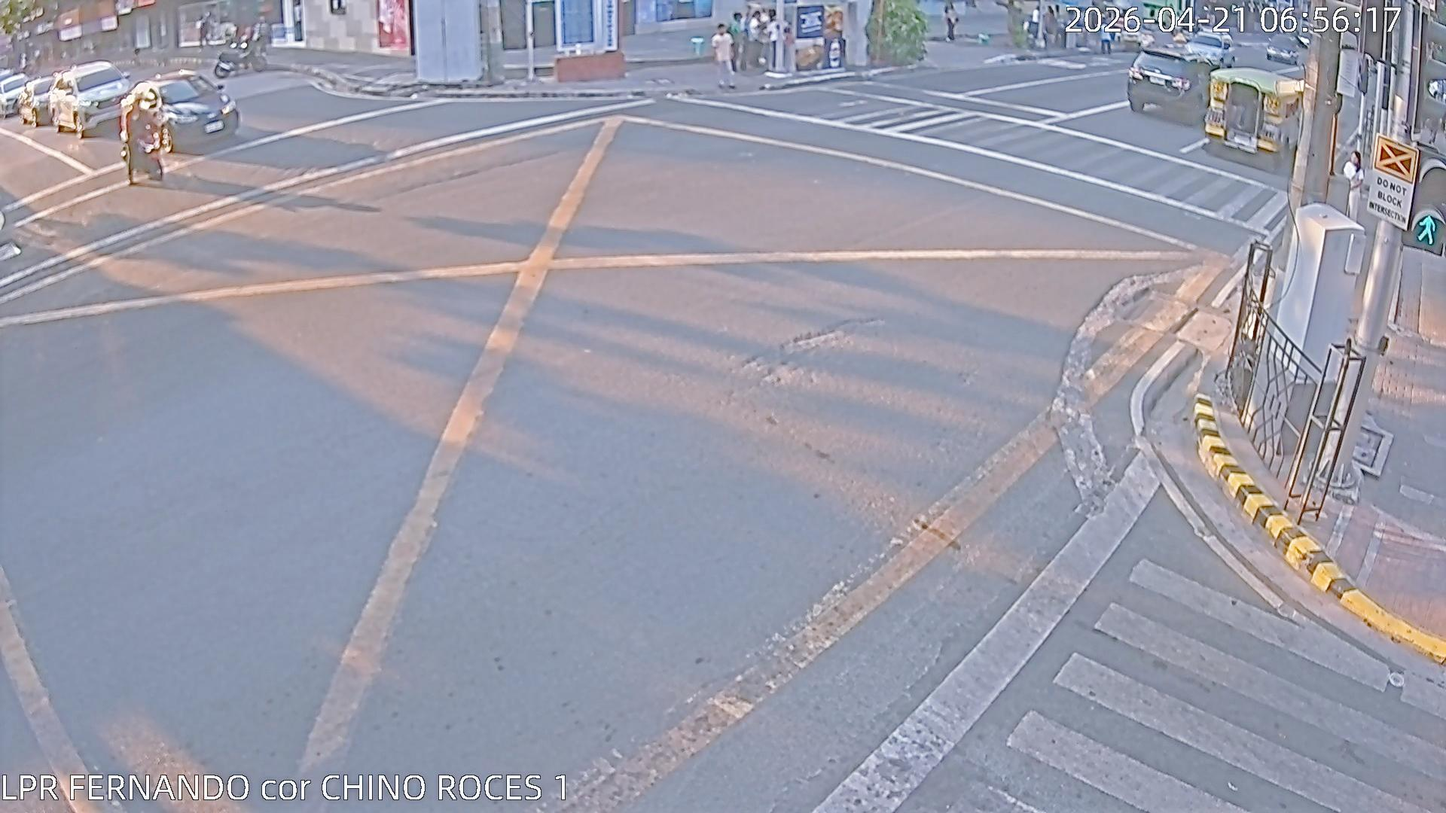Car: (151, 64, 255, 164), (1118, 41, 1207, 125), (50, 61, 123, 143), (9, 80, 56, 123), (0, 74, 29, 117), (0, 212, 21, 267)
Motor: (119, 80, 166, 184)
